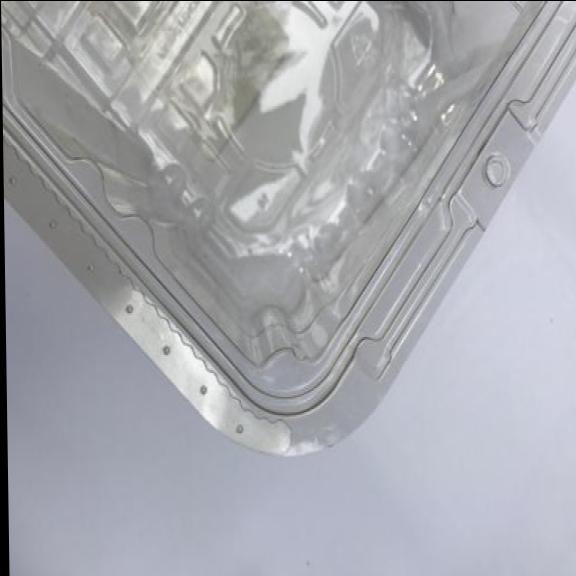Plastik: (0, 1, 576, 459)
